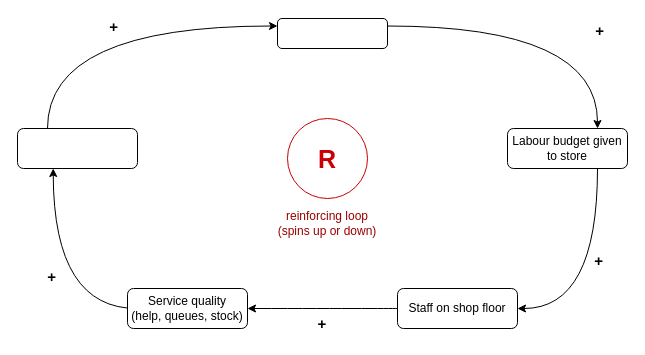
Some shapes in this 645 by 355 pixel diagram are drawn without their labels. Each missing label, with the centre of its shape:
Conversion (visitor who buy): point (77, 148)
Store sales: point (332, 33)
